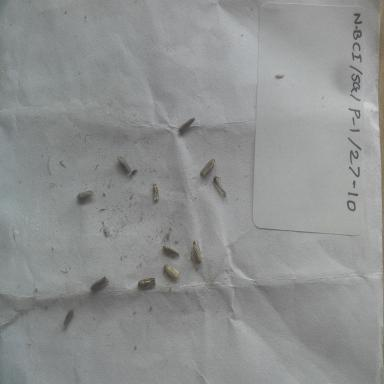pbw: (161, 256, 181, 282), (114, 149, 132, 176), (176, 115, 198, 136), (198, 156, 217, 180), (213, 173, 229, 198), (190, 236, 204, 264), (90, 274, 110, 293), (62, 305, 76, 332), (136, 274, 158, 291), (161, 243, 182, 260), (76, 186, 95, 202), (151, 180, 161, 204)
